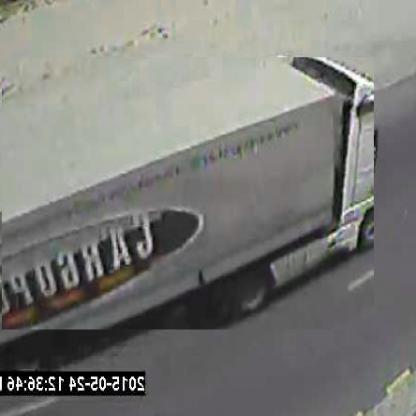container: (2, 58, 375, 332)
